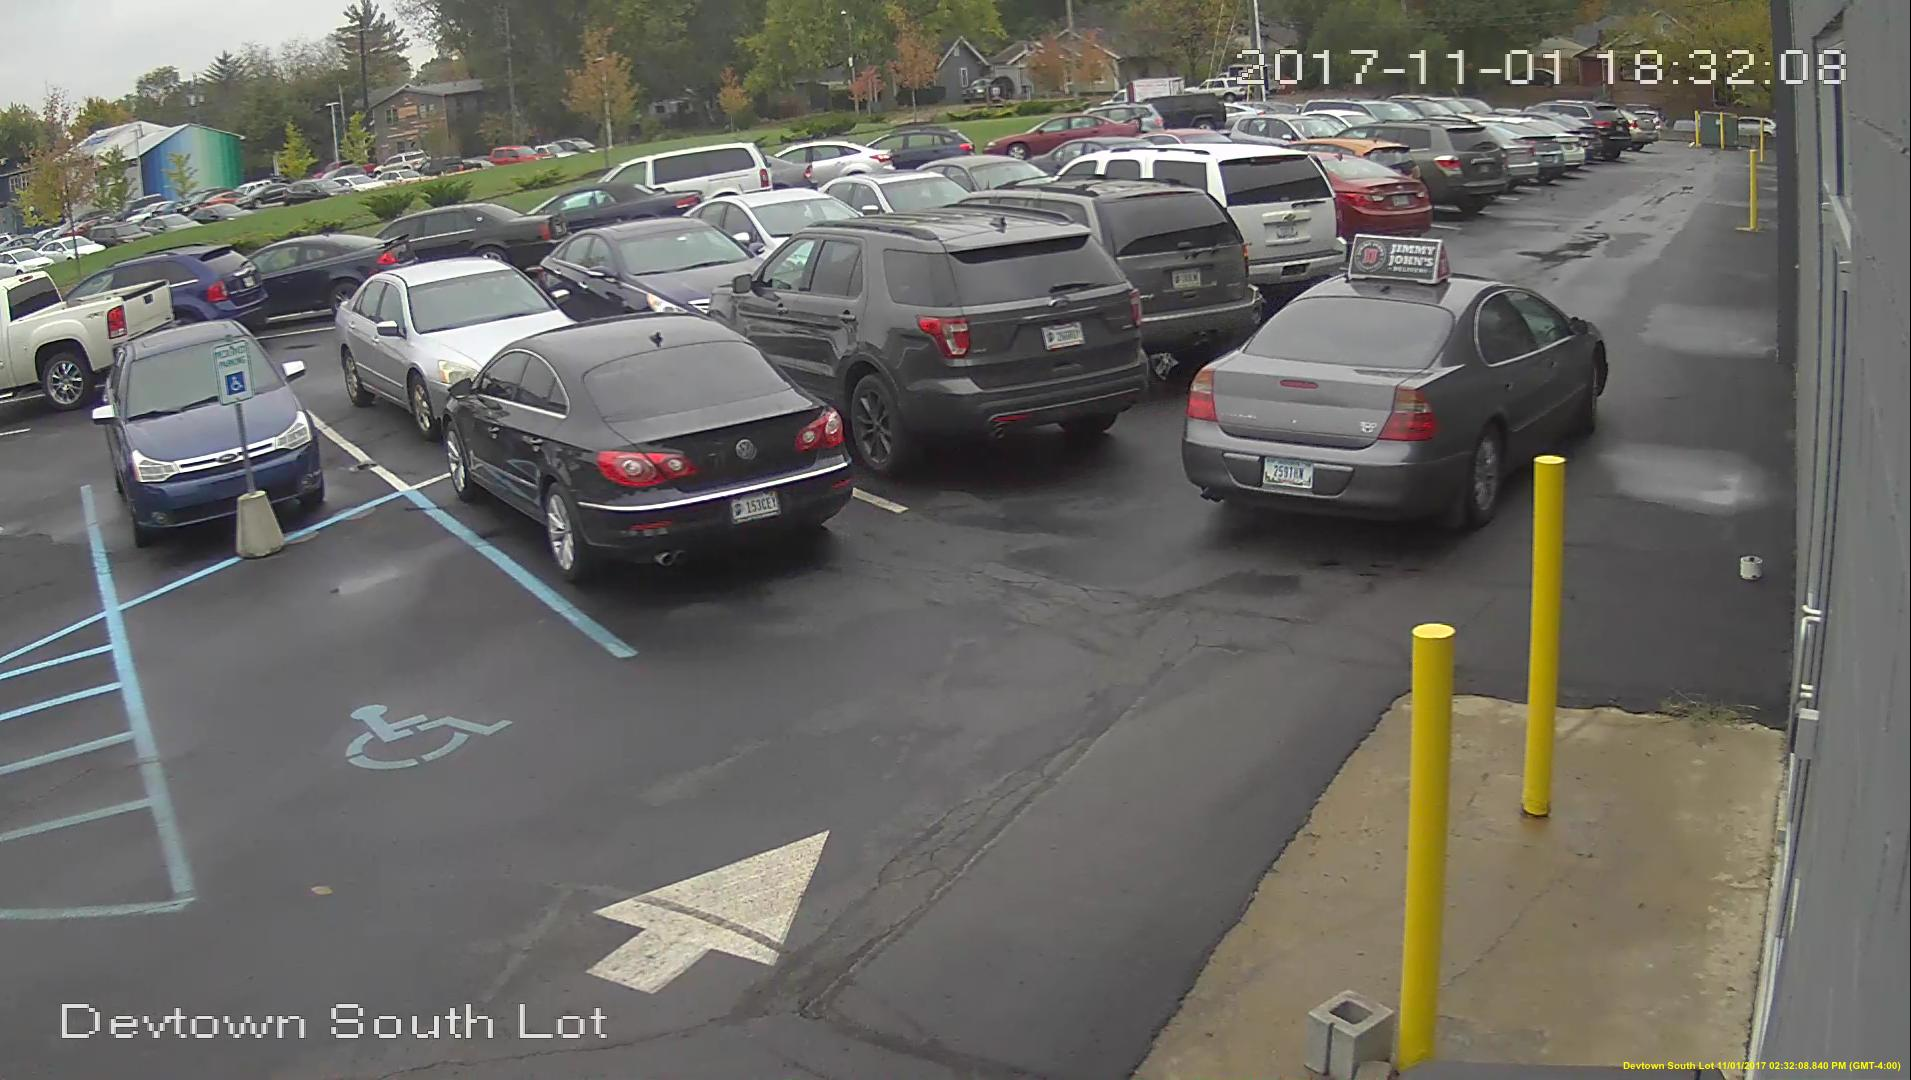jimmy_johns: (1341, 226, 1450, 291)
